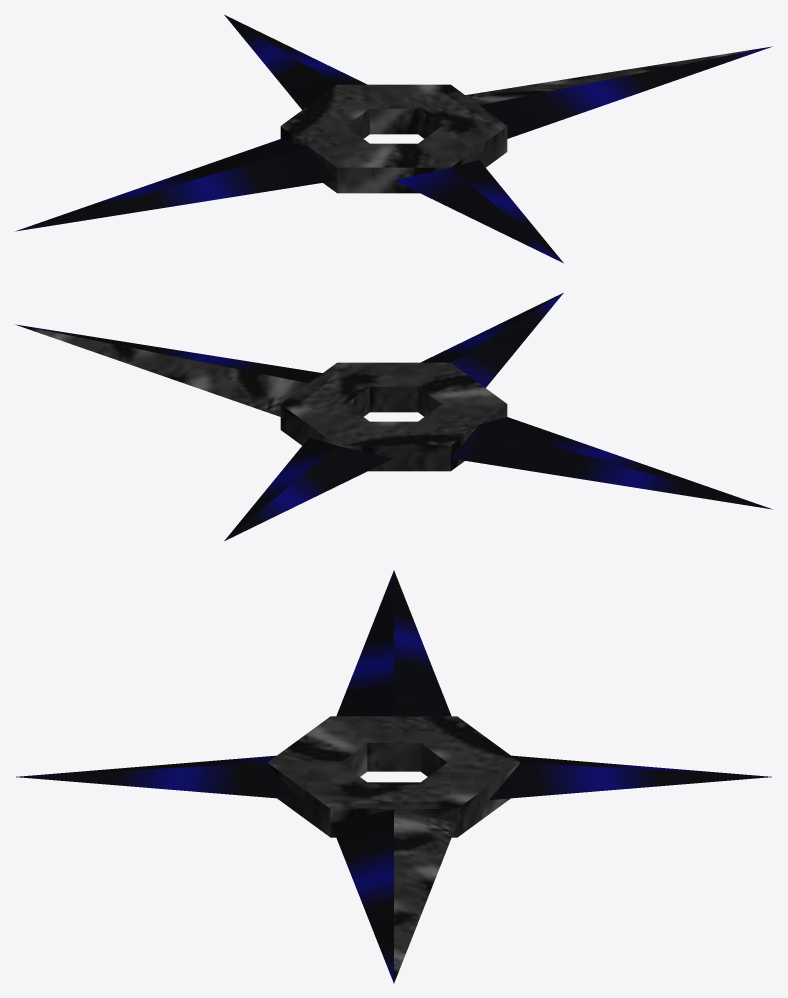
Rendered from hook.fbx.
The picture shows the model from 3 angles, top to bottom: view 1: azimuth 30°, elevation 25°; view 2: azimuth 150°, elevation 25°; view 3: azimuth 270°, elevation 25°; orthographic projection. The views are drawn at different scales.
Parts seen in each view (by area): view 1: Model; view 2: Model; view 3: Model.
Boxes of the visible parts, x1=… form: Model: x1=15, y1=14, x2=772, y2=263; Model: x1=15, y1=292, x2=772, y2=541; Model: x1=16, y1=570, x2=771, y2=983.
Bounding box in the file's own units: 0.1964 × 0.00635 × 0.1524.
